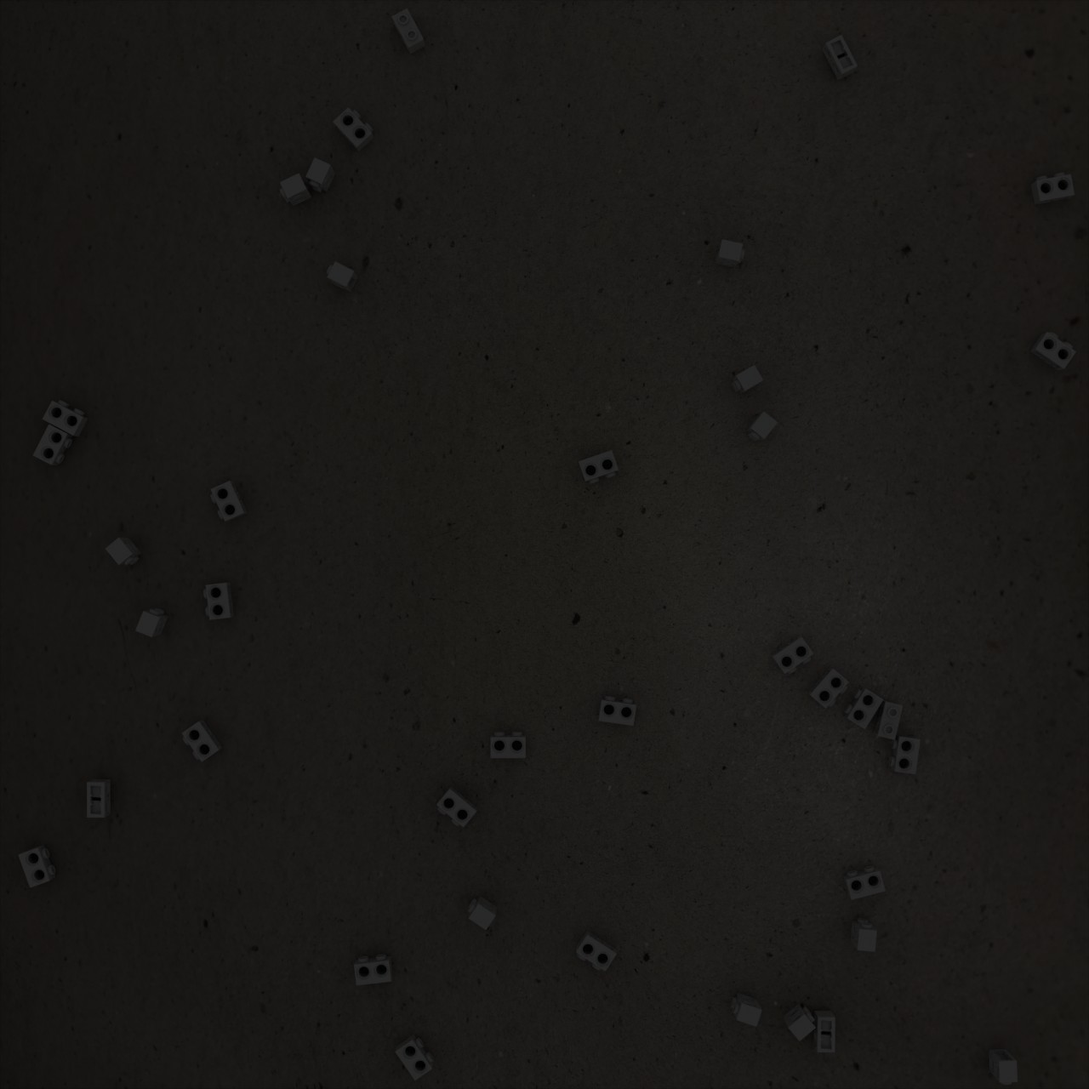lego: (333, 107, 374, 152), (395, 1034, 434, 1081), (181, 719, 223, 762), (1030, 332, 1076, 371), (807, 667, 849, 709), (575, 930, 617, 972), (436, 786, 478, 828), (844, 687, 884, 730), (42, 400, 88, 437), (33, 424, 73, 466), (770, 636, 814, 674), (18, 844, 56, 888), (822, 35, 858, 81), (210, 481, 248, 522), (392, 8, 425, 54), (843, 866, 886, 900), (1031, 172, 1075, 205), (578, 450, 619, 484), (783, 1003, 816, 1041), (354, 954, 393, 986), (889, 734, 920, 774), (873, 699, 903, 740), (203, 582, 234, 620), (598, 696, 637, 726), (279, 173, 312, 206), (730, 993, 762, 1027), (306, 157, 336, 193), (105, 537, 142, 566), (989, 1049, 1018, 1085), (326, 261, 358, 293), (468, 895, 497, 930), (746, 411, 778, 442), (135, 608, 169, 637), (731, 365, 764, 394), (87, 779, 111, 818), (490, 732, 526, 758), (850, 918, 877, 952), (714, 239, 745, 268), (814, 1011, 835, 1053)
